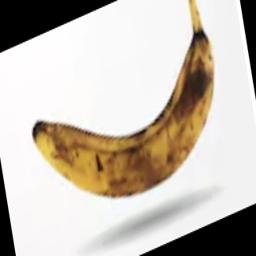Banana Rotten: (0, 21, 229, 213)
